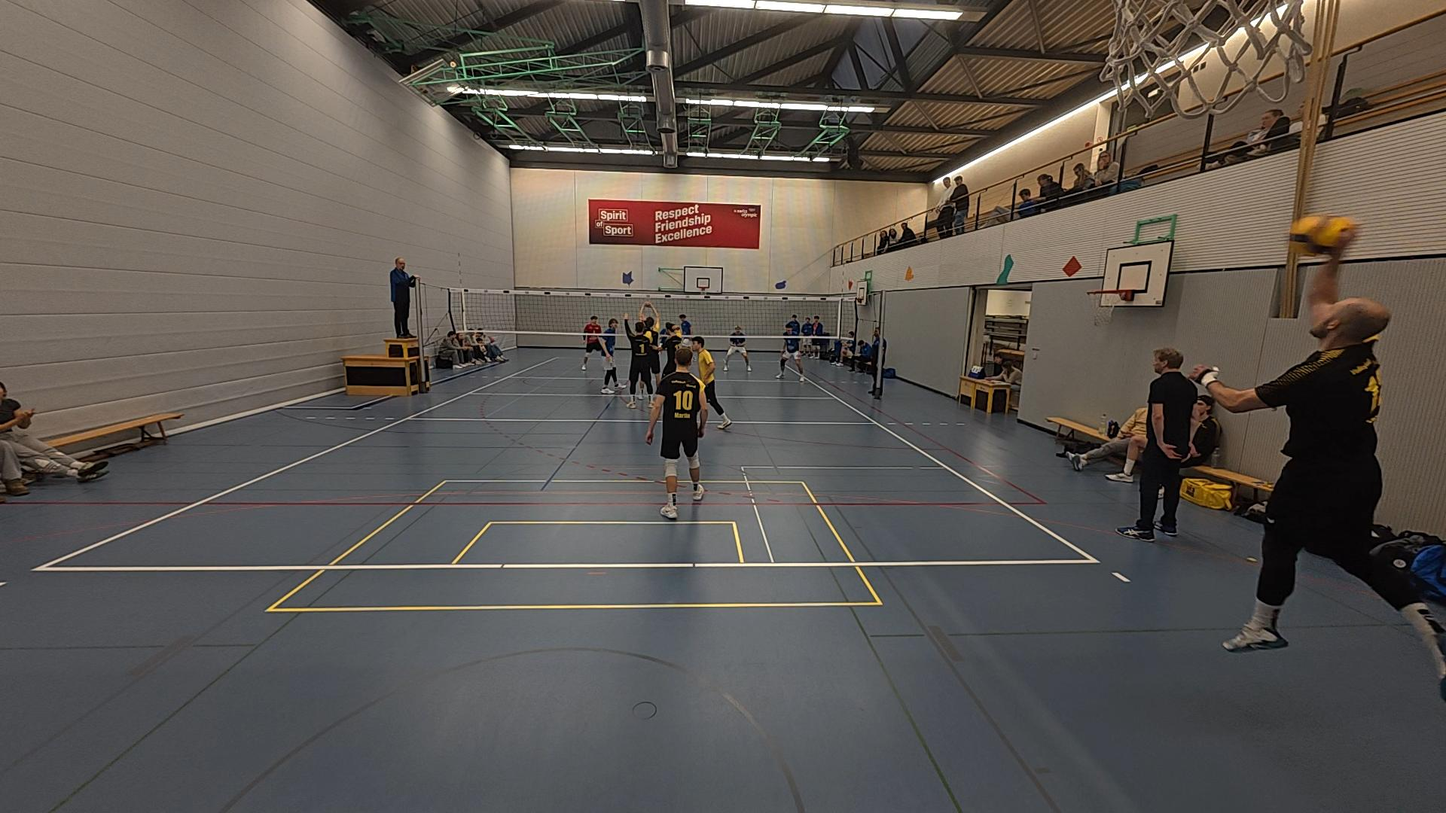Player: (646, 349, 706, 519), (691, 336, 731, 433), (623, 313, 657, 406), (649, 320, 682, 409), (637, 300, 663, 409), (600, 314, 626, 395), (775, 315, 804, 379), (581, 315, 611, 373), (720, 322, 751, 371), (675, 312, 698, 362), (657, 319, 670, 354)
Serve: (1185, 231, 1439, 681)
ball: (1292, 214, 1357, 251)
